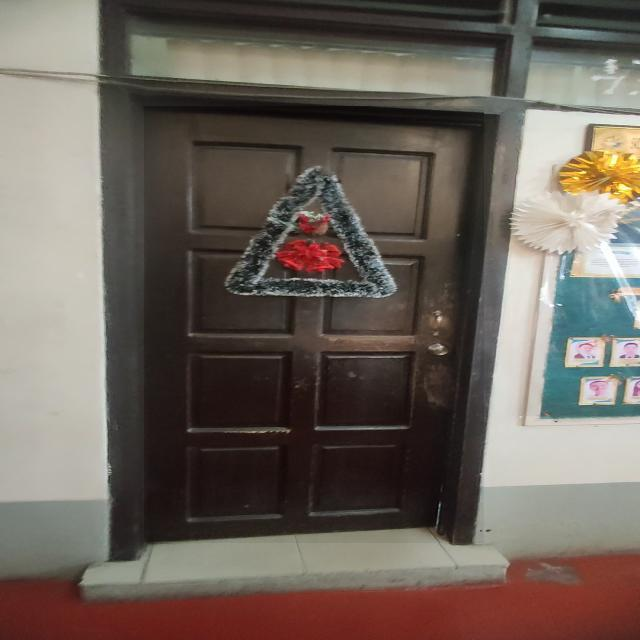door: (144, 107, 484, 543)
